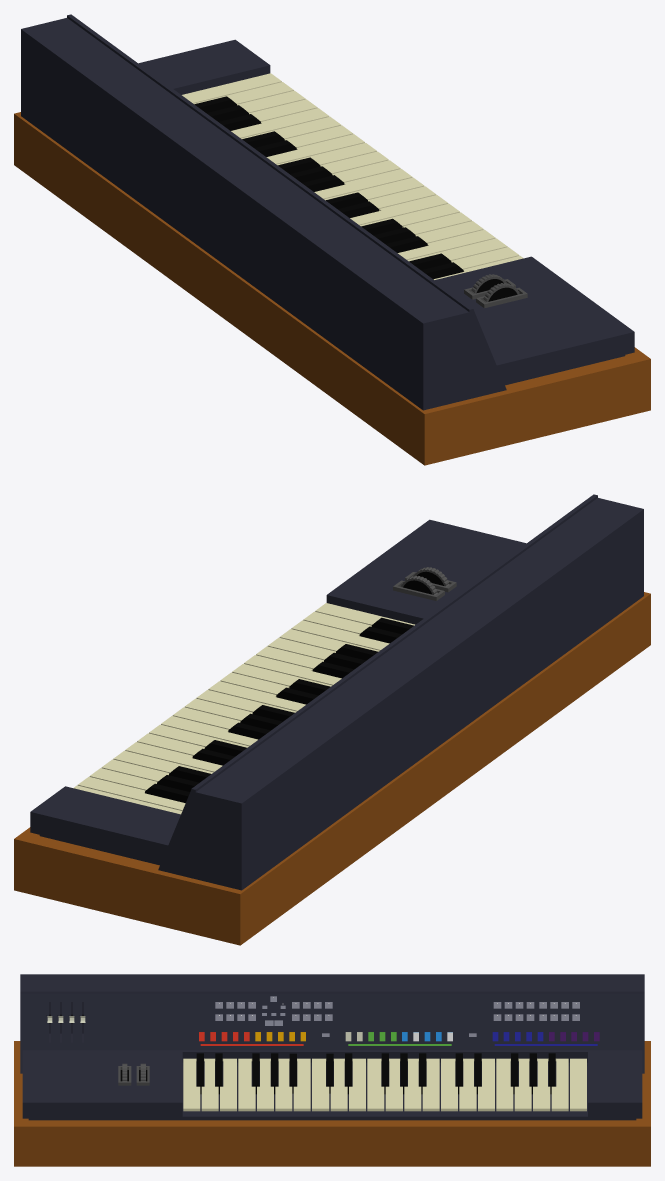
Rendered from Synthetizer.fbx.
3 views of the same model, one above another, from view 1: azimuth 30°, elevation 25°; view 2: azimuth 150°, elevation 25°; view 3: azimuth 270°, elevation 25° (orthographic). The views are drawn at different scales.
Parts seen in each view (by area): view 1: Synthetizer.001, Synthetizer.002, Synthetizer.051, Synthetizer.044, Synthetizer.047, Synthetizer.040, Synthetizer.037, Synthetizer.033, Synthetizer.016, Synthetizer.032, Synthetizer.036, Synthetizer.039 (+12 smaller); view 2: Synthetizer.001, Synthetizer.002, Synthetizer.050, Synthetizer.032, Synthetizer.036, Synthetizer.039, Synthetizer.043, Synthetizer.046, Synthetizer.016, Synthetizer.047, Synthetizer.044, Synthetizer.037 (+12 smaller); view 3: Synthetizer.001, Synthetizer.002, Synthetizer.013, Synthetizer.051, Synthetizer.040, Synthetizer.047, Synthetizer.033, Synthetizer.044, Synthetizer.037, Synthetizer.003, Synthetizer.036, Synthetizer.043 (+20 smaller).
Boxes of the visible parts, x1,y1,x2,y2 form: Synthetizer.001: [21, 14, 634, 410]; Synthetizer.002: [14, 112, 650, 465]; Synthetizer.051: [182, 73, 281, 103]; Synthetizer.044: [266, 134, 364, 164]; Synthetizer.047: [231, 108, 329, 138]; Synthetizer.040: [314, 169, 412, 199]; Synthetizer.037: [350, 195, 448, 225]; Synthetizer.033: [398, 229, 495, 259]; Synthetizer.016: [464, 274, 527, 308]; Synthetizer.032: [407, 238, 507, 261]; Synthetizer.036: [360, 203, 459, 227]; Synthetizer.039: [324, 177, 424, 200]; Synthetizer.001: [30, 494, 643, 890]; Synthetizer.002: [14, 592, 650, 945]; Synthetizer.050: [77, 777, 185, 810]; Synthetizer.032: [291, 620, 389, 650]; Synthetizer.036: [244, 655, 341, 685]; Synthetizer.039: [208, 681, 305, 711]; Synthetizer.043: [161, 716, 257, 746]; Synthetizer.046: [125, 742, 222, 772]; Synthetizer.016: [393, 567, 456, 600]; Synthetizer.047: [113, 750, 213, 773]; Synthetizer.044: [149, 724, 248, 747]; Synthetizer.037: [232, 663, 331, 686]; Synthetizer.001: [20, 974, 644, 1120]; Synthetizer.002: [14, 1041, 650, 1166]; Synthetizer.013: [215, 996, 579, 1036]; Synthetizer.051: [570, 1058, 586, 1111]; Synthetizer.040: [367, 1058, 384, 1111]; Synthetizer.047: [496, 1058, 513, 1111]; Synthetizer.033: [238, 1058, 255, 1111]; Synthetizer.044: [441, 1058, 457, 1111]; Synthetizer.037: [312, 1058, 329, 1111]; Synthetizer.003: [183, 1058, 200, 1111]; Synthetizer.036: [293, 1058, 310, 1111]; Synthetizer.043: [422, 1058, 439, 1111].
Bounding box in the file's own units: 276 × 164 × 868.
